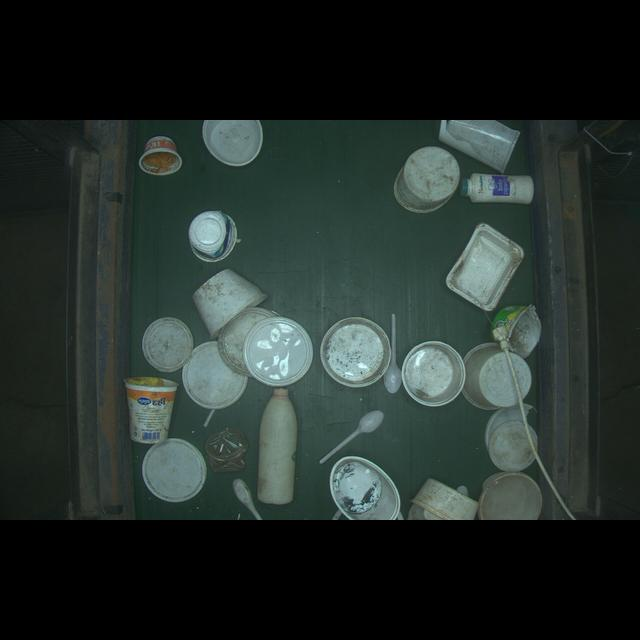PP: (121, 372, 181, 448)
